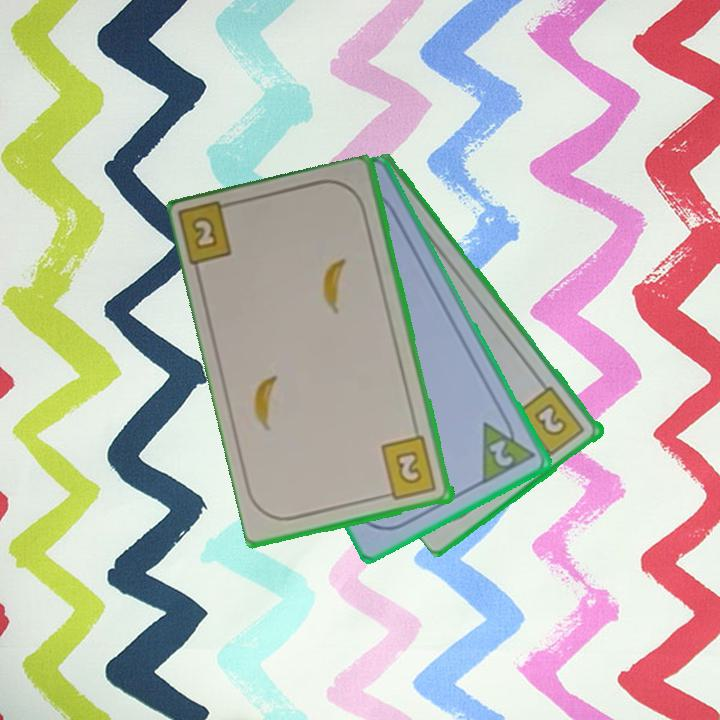2b: (514, 383, 588, 462), (178, 198, 242, 270), (377, 433, 440, 503)
2p: (478, 410, 539, 488)
